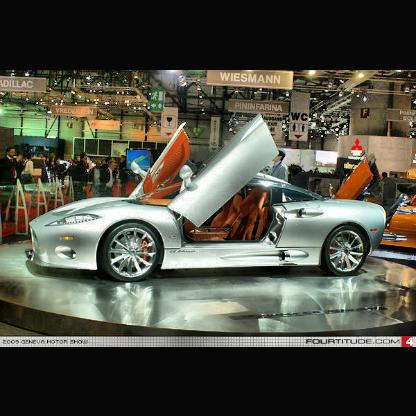Spyker C8 Convertible 2009: (26, 113, 389, 284)
